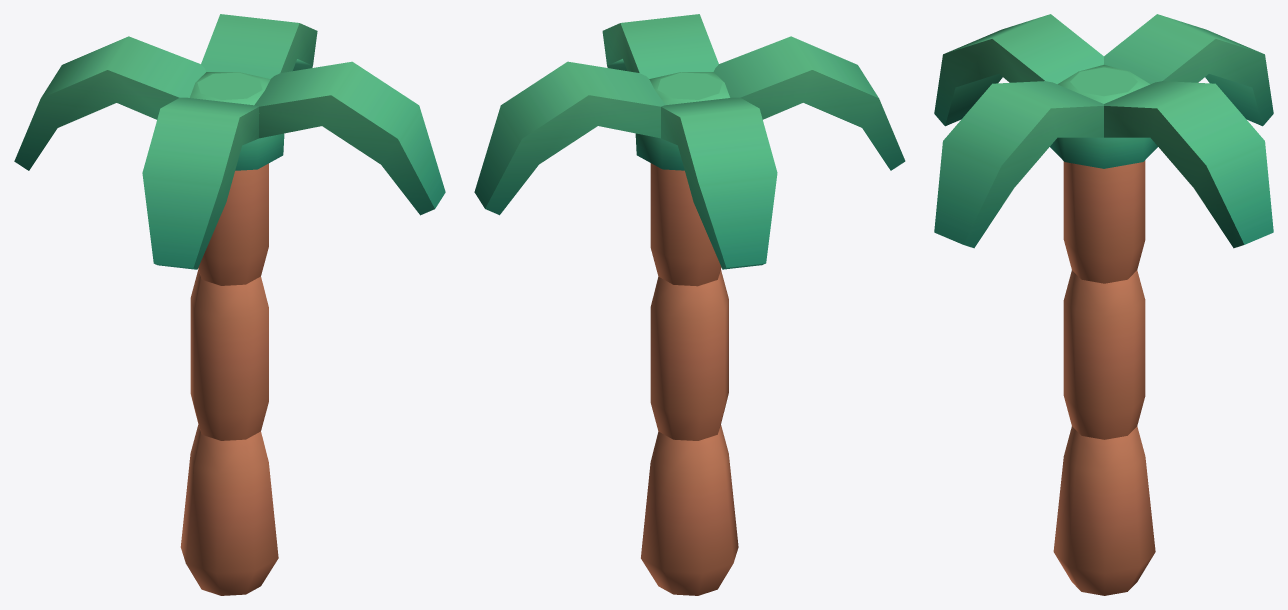
The model's file is palm_tree.glb.
3 views of the same model, side by side, from view 1: azimuth 30°, elevation 25°; view 2: azimuth 150°, elevation 25°; view 3: azimuth 270°, elevation 25° (orthographic).
Parts seen in each view (by area): view 1: palm-straight; view 2: palm-straight; view 3: palm-straight.
Boxes of the visible parts, x1,y1,x2,y2 form: palm-straight: (14,14,445,595); palm-straight: (474,14,905,595); palm-straight: (934,14,1273,595).
Bounding box in the file's own units: 2.49 × 4.21 × 2.49.
Materials: 1 (1 with a texture image).
